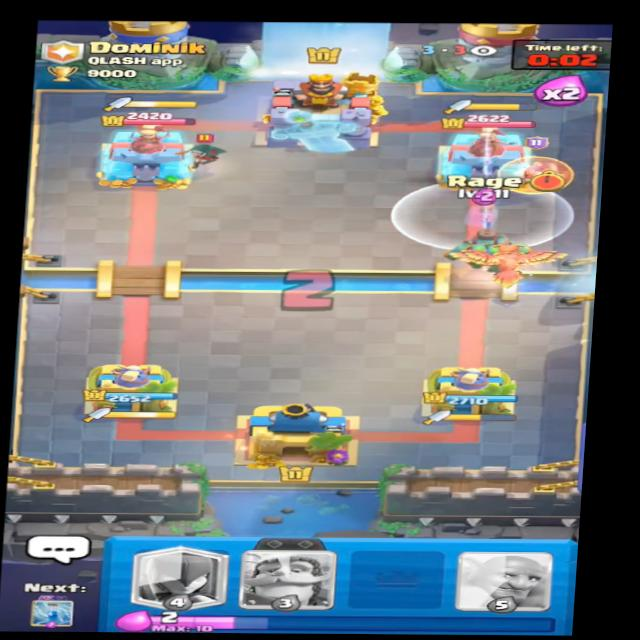bandit: (174, 130, 228, 168)
evo-wizard: (495, 144, 579, 201)
